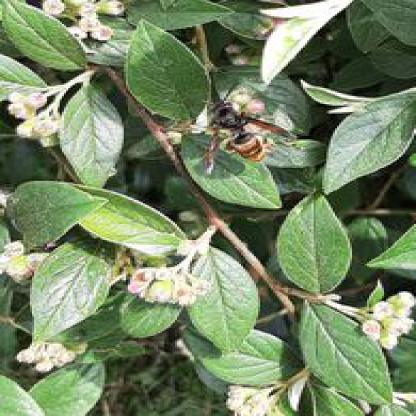Asian Hornet: (184, 85, 306, 166)
